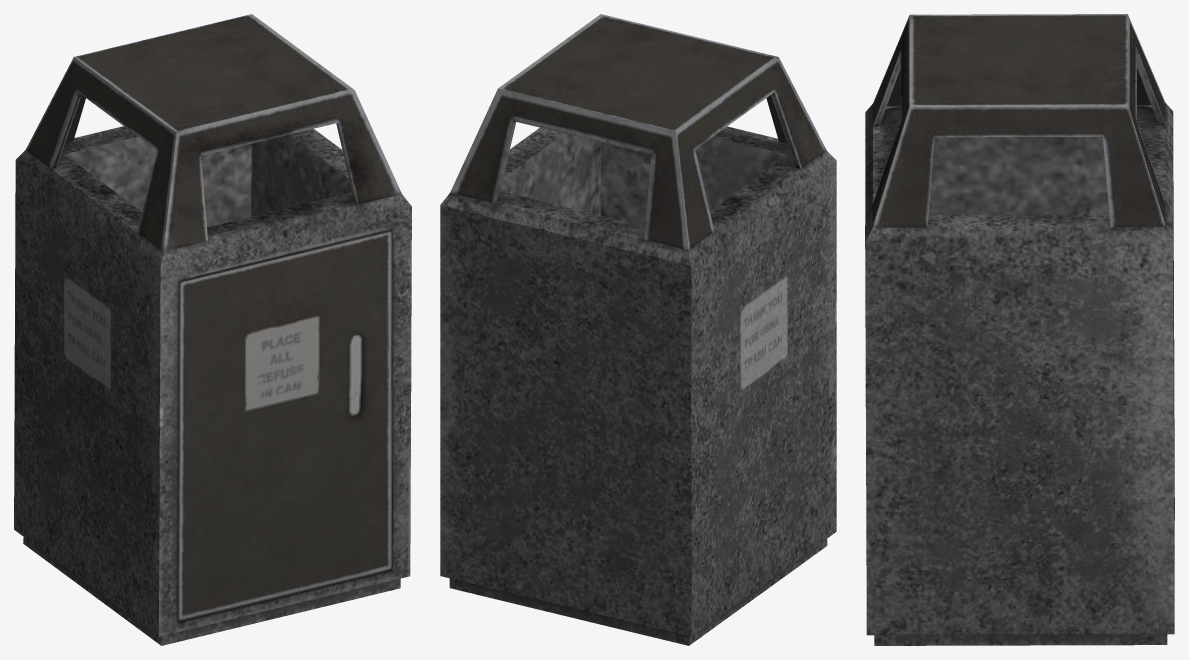
File: s_eimer.glb
3 views of the same model, side by side, from view 1: azimuth 30°, elevation 25°; view 2: azimuth 150°, elevation 25°; view 3: azimuth 270°, elevation 25° (orthographic). The views are drawn at different scales.
Visible parts, largest first — view 1: o_trash_parking_l; view 2: o_trash_parking_l; view 3: o_trash_parking_l.
Boxes of the visible parts, x1,y1,x2,y2 form: o_trash_parking_l: (14,14,411,645); o_trash_parking_l: (440,14,836,645); o_trash_parking_l: (865,14,1174,645).
Bounding box in the file's own units: 1.07 × 2 × 1.07.
Materials: 1 (1 with a texture image).
